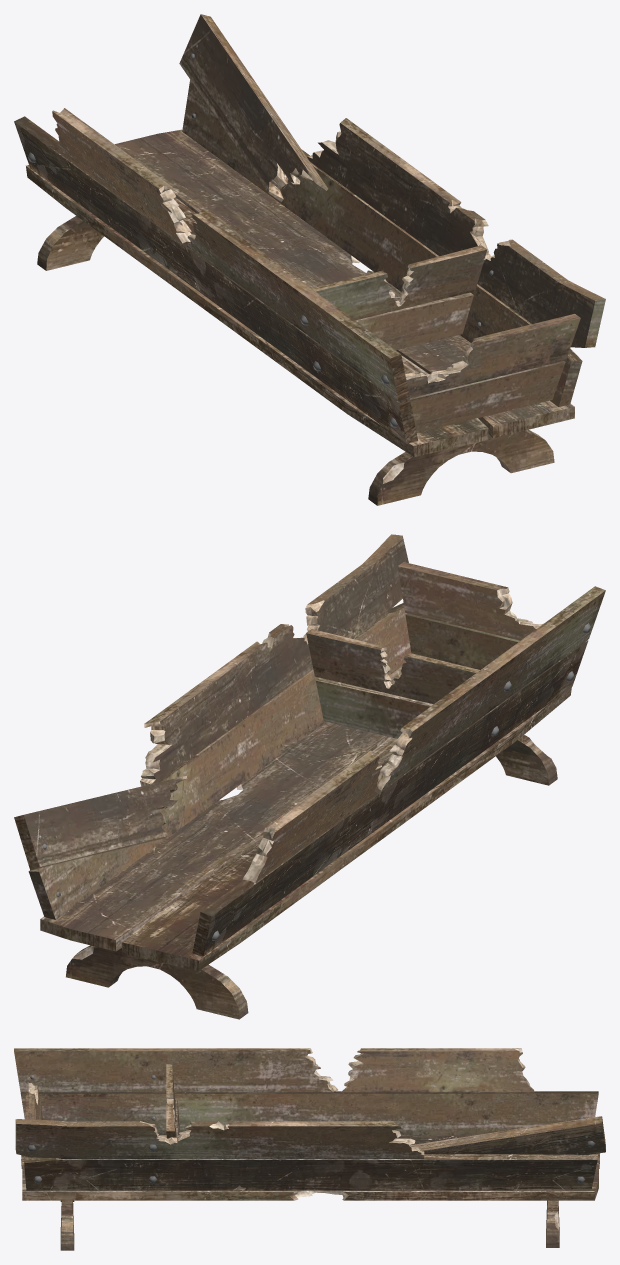
3 views of the same model, one above another, from view 1: azimuth 30°, elevation 25°; view 2: azimuth 150°, elevation 25°; view 3: azimuth 270°, elevation 25° (orthographic). The views are drawn at different scales.
Visible parts, largest first — view 1: SM_Village_Trough_v1_LOD0; view 2: SM_Village_Trough_v1_LOD0; view 3: SM_Village_Trough_v1_LOD0.
Boxes of the visible parts, x1,y1,x2,y2 form: SM_Village_Trough_v1_LOD0: (14, 14, 605, 505); SM_Village_Trough_v1_LOD0: (14, 534, 605, 1019); SM_Village_Trough_v1_LOD0: (14, 1048, 605, 1250).
Size of the model in its own units: 0.7879 by 0.6332 by 2.47.
Materials: 1 (1 with a texture image).
